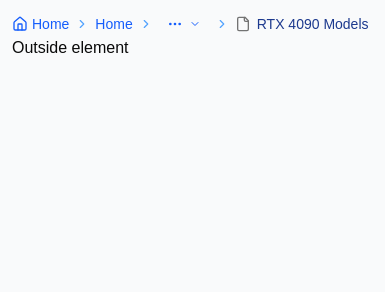
Scenario: Breadcrumb Component › Condensed Menu › closes condensed menu when clicking outside
Click the button named "Show 6 more breadcrumb items" at (184, 24), box [159, 12, 209, 36]
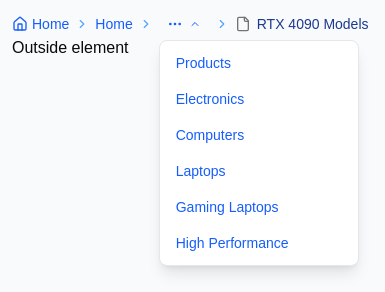
Expected: the text "Electronics" is shown, [176, 89, 244, 109]
# Click outside
Click the text with test id "outside" at (70, 48), box [12, 39, 128, 56]
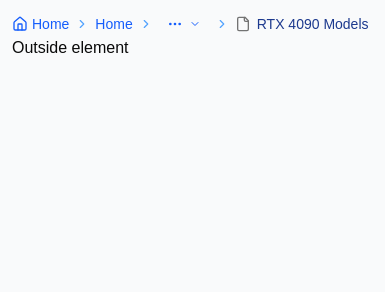
Expected: the menu item "Electronics" is gone
